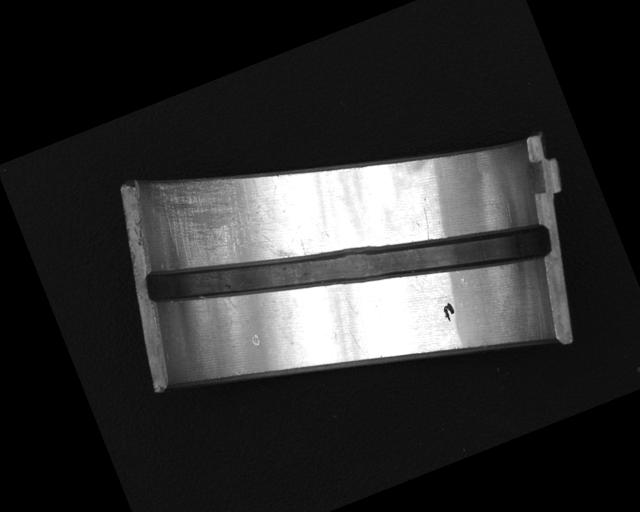blot: (439, 300, 460, 324)
bruise: (249, 331, 263, 347)
gap: (143, 133, 556, 397)
nick: (414, 195, 442, 241)
scratch: (142, 142, 297, 298)
